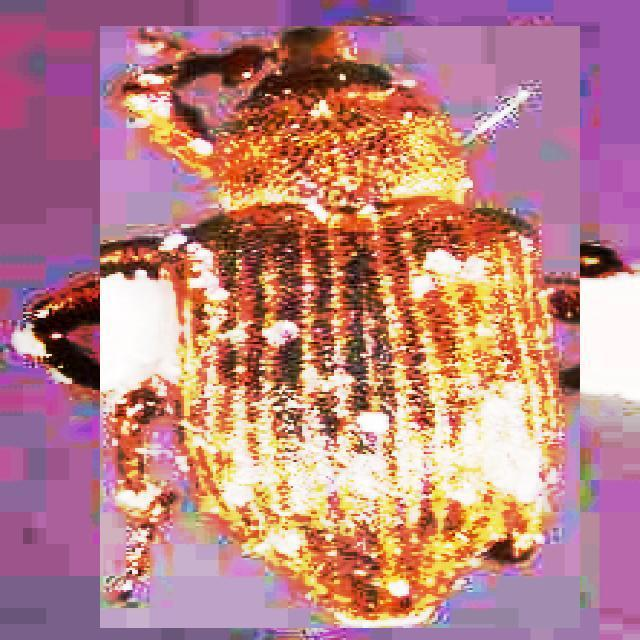rice-bug: (100, 27, 580, 629)
